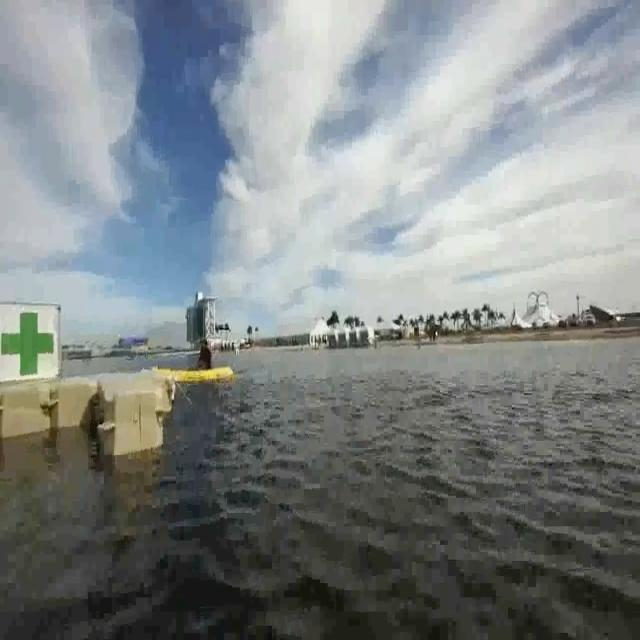blue-cross: (2, 302, 62, 386)
